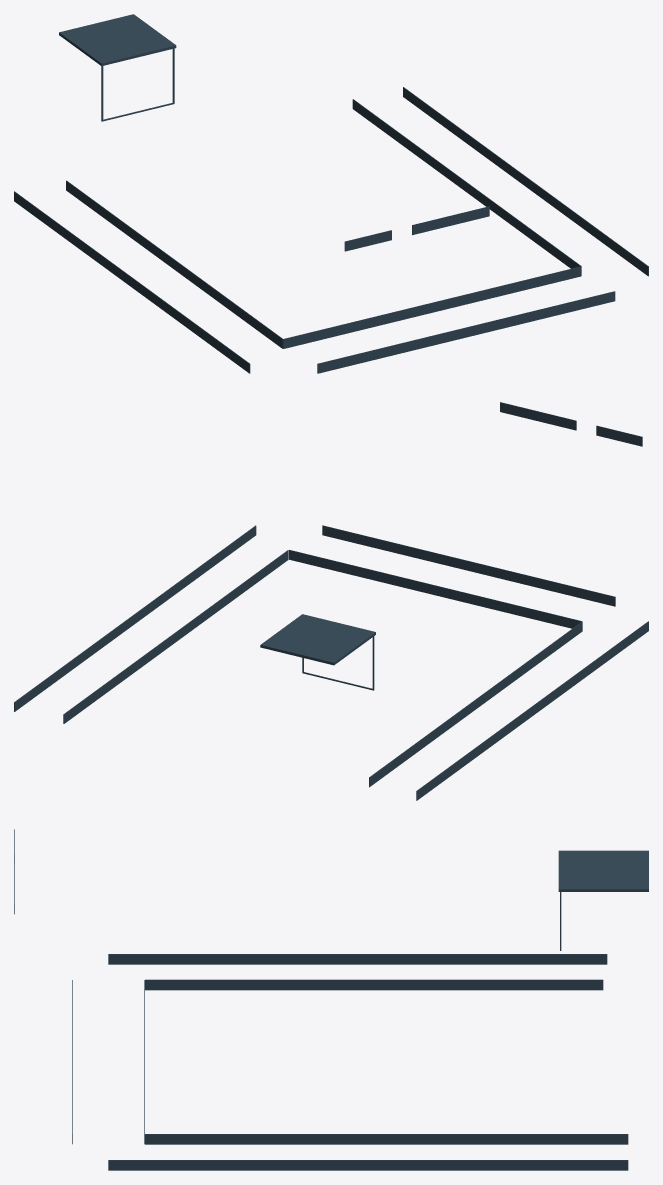
File: v02-03-05-steel.glb
The picture shows the model from 3 angles, top to bottom: view 1: azimuth 30°, elevation 25°; view 2: azimuth 150°, elevation 25°; view 3: azimuth 270°, elevation 25°; orthographic projection. The views are drawn at different scales.
Visible parts, largest first — view 1: v02-03-05-steel; view 2: v02-03-05-steel; view 3: v02-03-05-steel.
Boxes of the visible parts, box(x1,y1,x2,y2) form: v02-03-05-steel: box(14, 14, 648, 373); v02-03-05-steel: box(14, 402, 648, 800); v02-03-05-steel: box(14, 829, 648, 1170).
Bounding box in the file's own units: 46.98 × 17.1 × 61.09.
